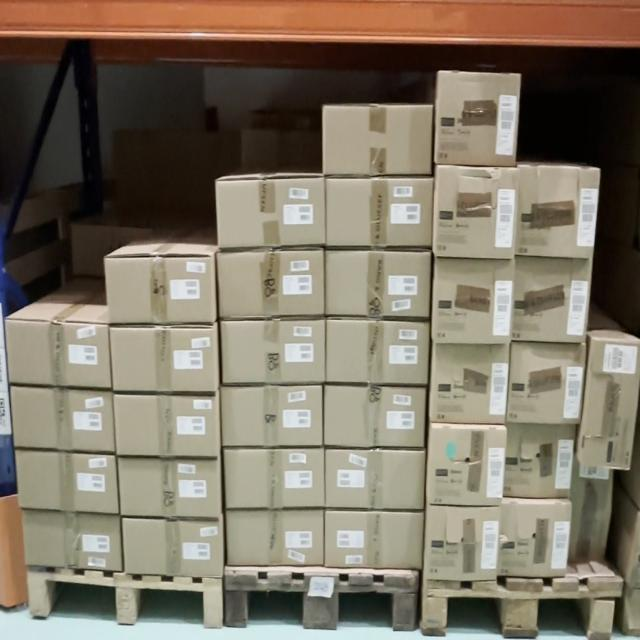box: (110, 320, 215, 396), (579, 336, 638, 465), (215, 176, 321, 246), (435, 71, 517, 160), (7, 319, 112, 387), (440, 166, 516, 257), (327, 180, 430, 246), (218, 448, 323, 512), (110, 393, 220, 454), (436, 340, 510, 426), (222, 257, 324, 318), (327, 446, 422, 511), (332, 316, 426, 381), (222, 322, 324, 381), (16, 453, 118, 512), (524, 174, 596, 256), (325, 112, 430, 168), (10, 392, 113, 449), (325, 387, 423, 446), (424, 502, 500, 576), (109, 261, 213, 315), (222, 391, 324, 446), (327, 255, 427, 311), (432, 422, 506, 497), (435, 267, 514, 337), (516, 265, 586, 341), (123, 520, 218, 574), (512, 350, 580, 423), (120, 464, 218, 514), (22, 516, 120, 563), (228, 514, 320, 564), (329, 516, 422, 562), (504, 431, 571, 494), (505, 510, 571, 571)
